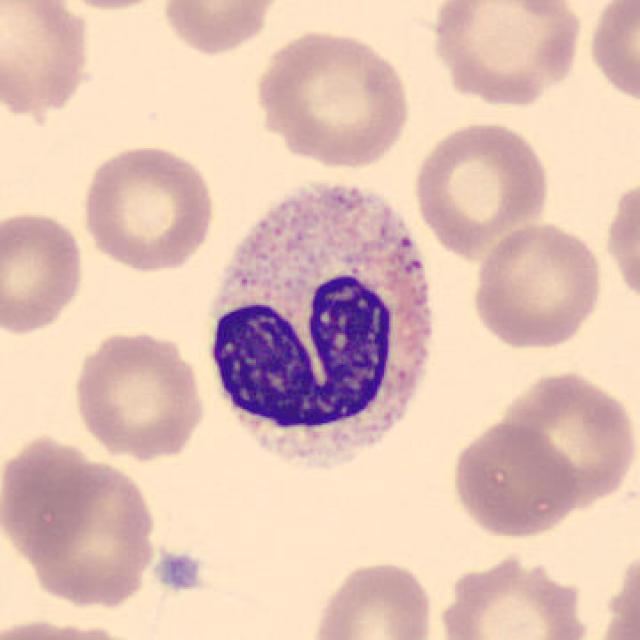Neutrophil: (194, 166, 452, 488)
Platelets: (153, 548, 206, 592)
RBC: (249, 25, 414, 171), (12, 451, 162, 610), (409, 116, 553, 258), (494, 366, 636, 509), (68, 326, 210, 462), (78, 141, 219, 273), (468, 218, 606, 352), (426, 0, 586, 109), (446, 418, 580, 541), (434, 550, 594, 640), (0, 430, 103, 564), (0, 0, 96, 122), (0, 205, 87, 336), (306, 555, 437, 640), (156, 0, 286, 56), (584, 0, 638, 109), (602, 173, 640, 314), (596, 548, 640, 640), (5, 619, 155, 640), (42, 0, 178, 14)
